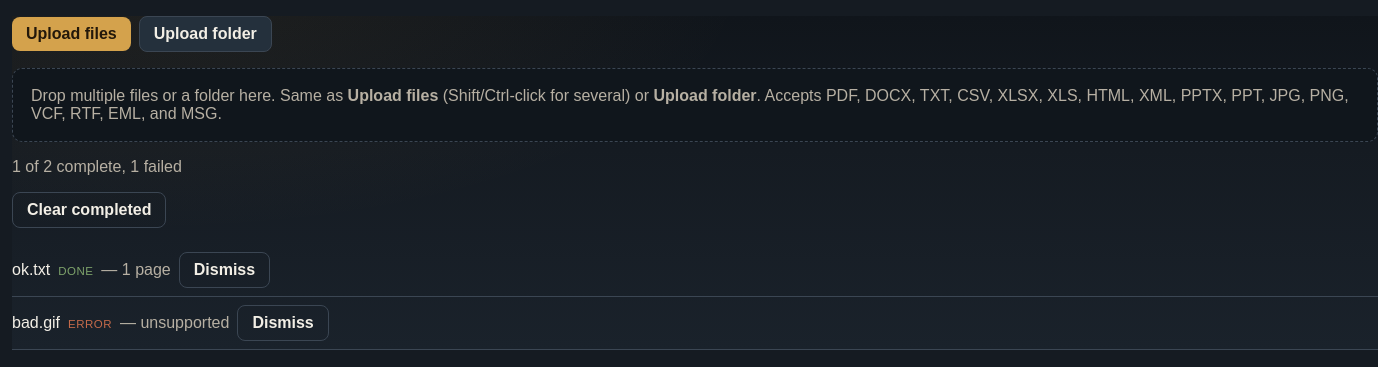
DocumentUploader › clears successful queue rows and keeps failures until dismissed
Expected: the text "ok.txt" is shown, [12,261,50,279]
Expected: the text "bad.gif" is shown, [12,314,60,332]
Click the button "Clear completed": (89, 210) [12,192,166,228]
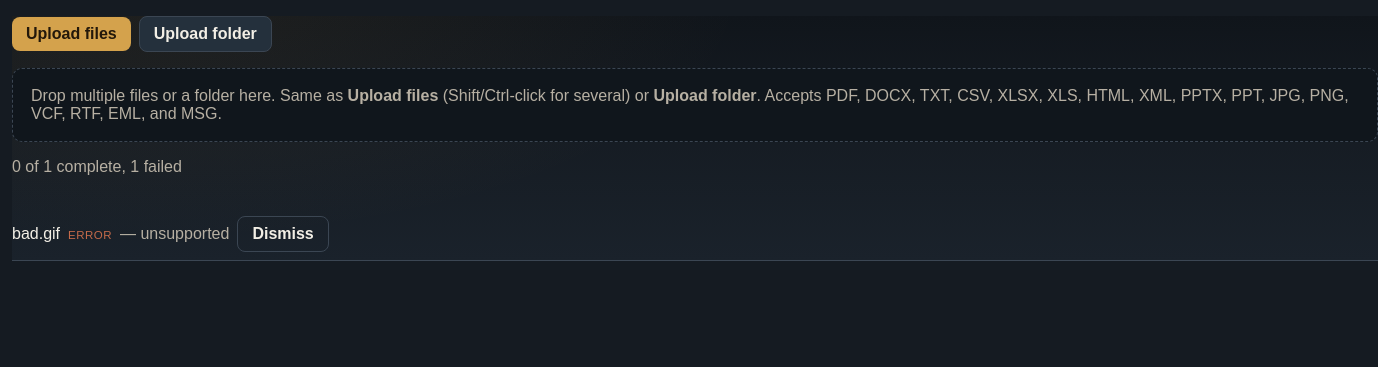
Expected: the text "bad.gif" is shown, [12,225,60,243]
Now the text "ok.txt" is gone
Click the button "Dismiss": (283, 234) [237,216,329,252]
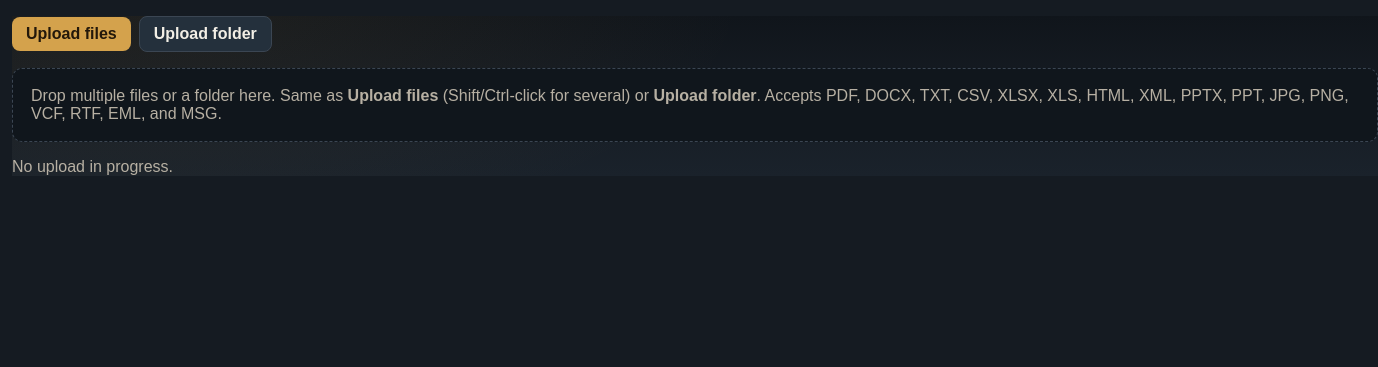
Now the text "No upload in progress." is shown, box [12,158,173,175]
